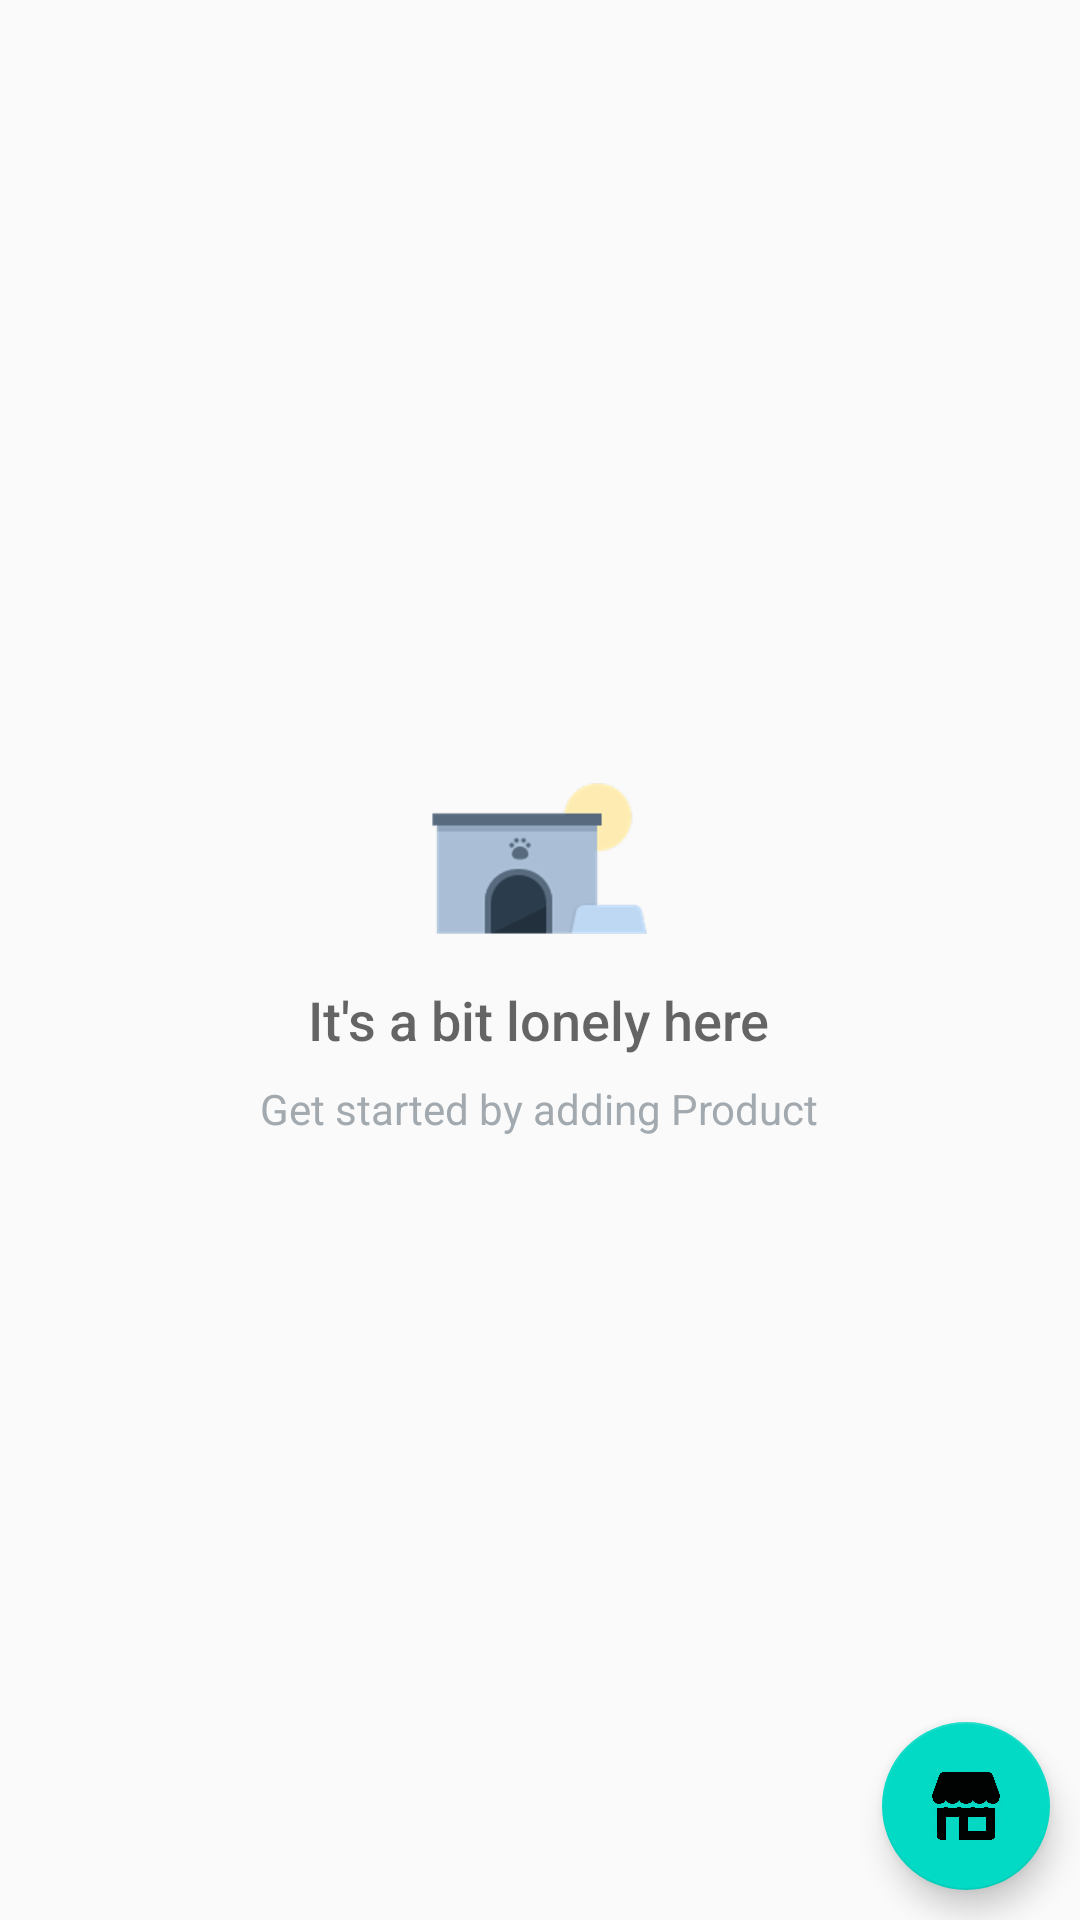

Named icons in this screenshot (1080x1920) and their centers, point (x, y):
empty shelter: point (539, 858)
storefront: point (966, 1806)
